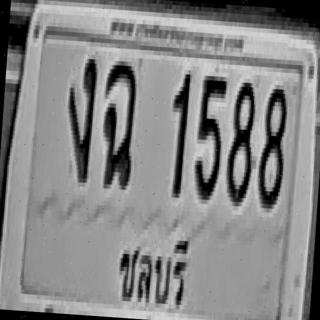A07: (62, 53, 98, 183)
A09: (98, 58, 139, 188)
N01: (166, 71, 191, 196)
N05: (192, 71, 227, 200)
N08: (256, 84, 289, 209), (224, 78, 257, 202)
P13: (111, 224, 193, 311)
